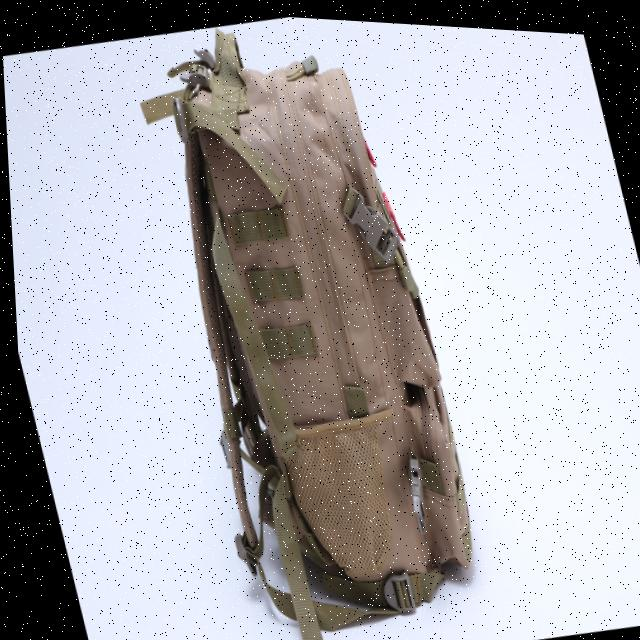backpack: (118, 6, 510, 640)
